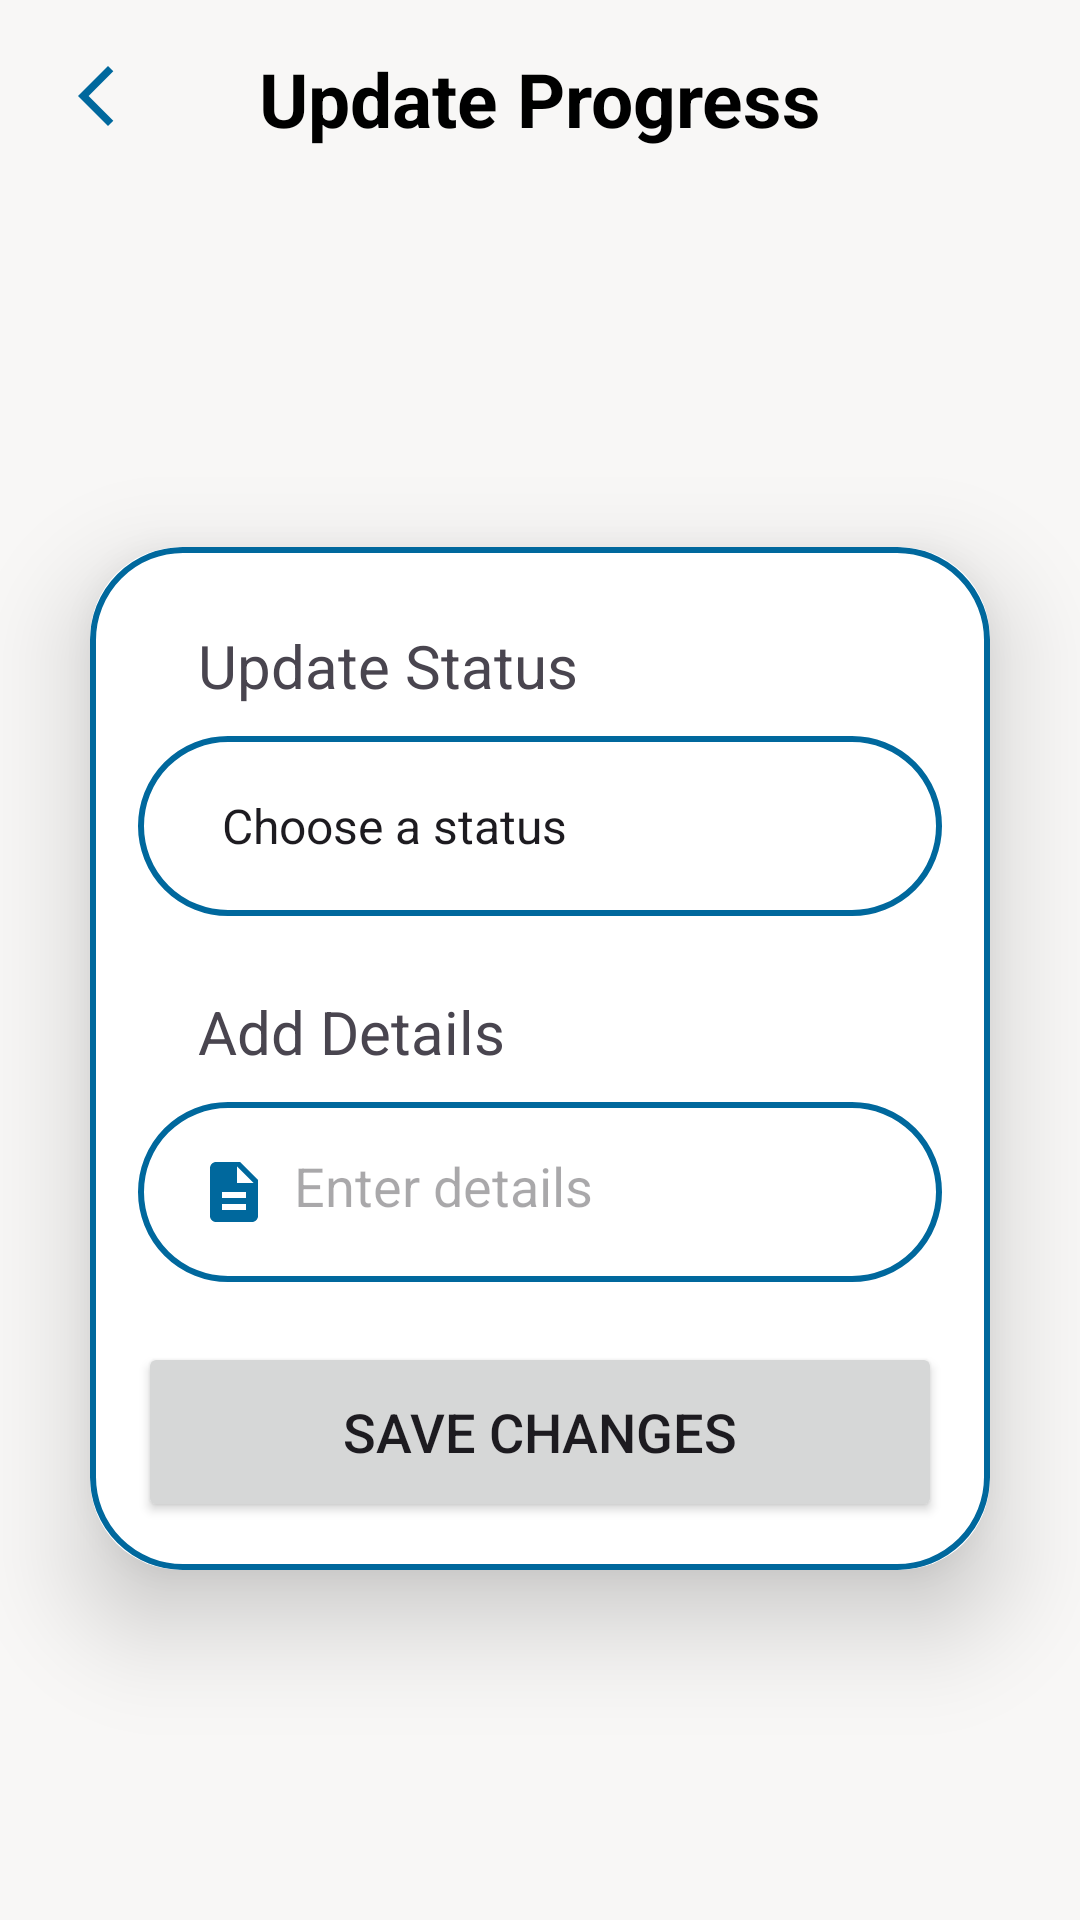

Where icons sit on this 1080*1920 app screen, as (x1, y1, x2, y2):
back button: (78, 66, 113, 126)
